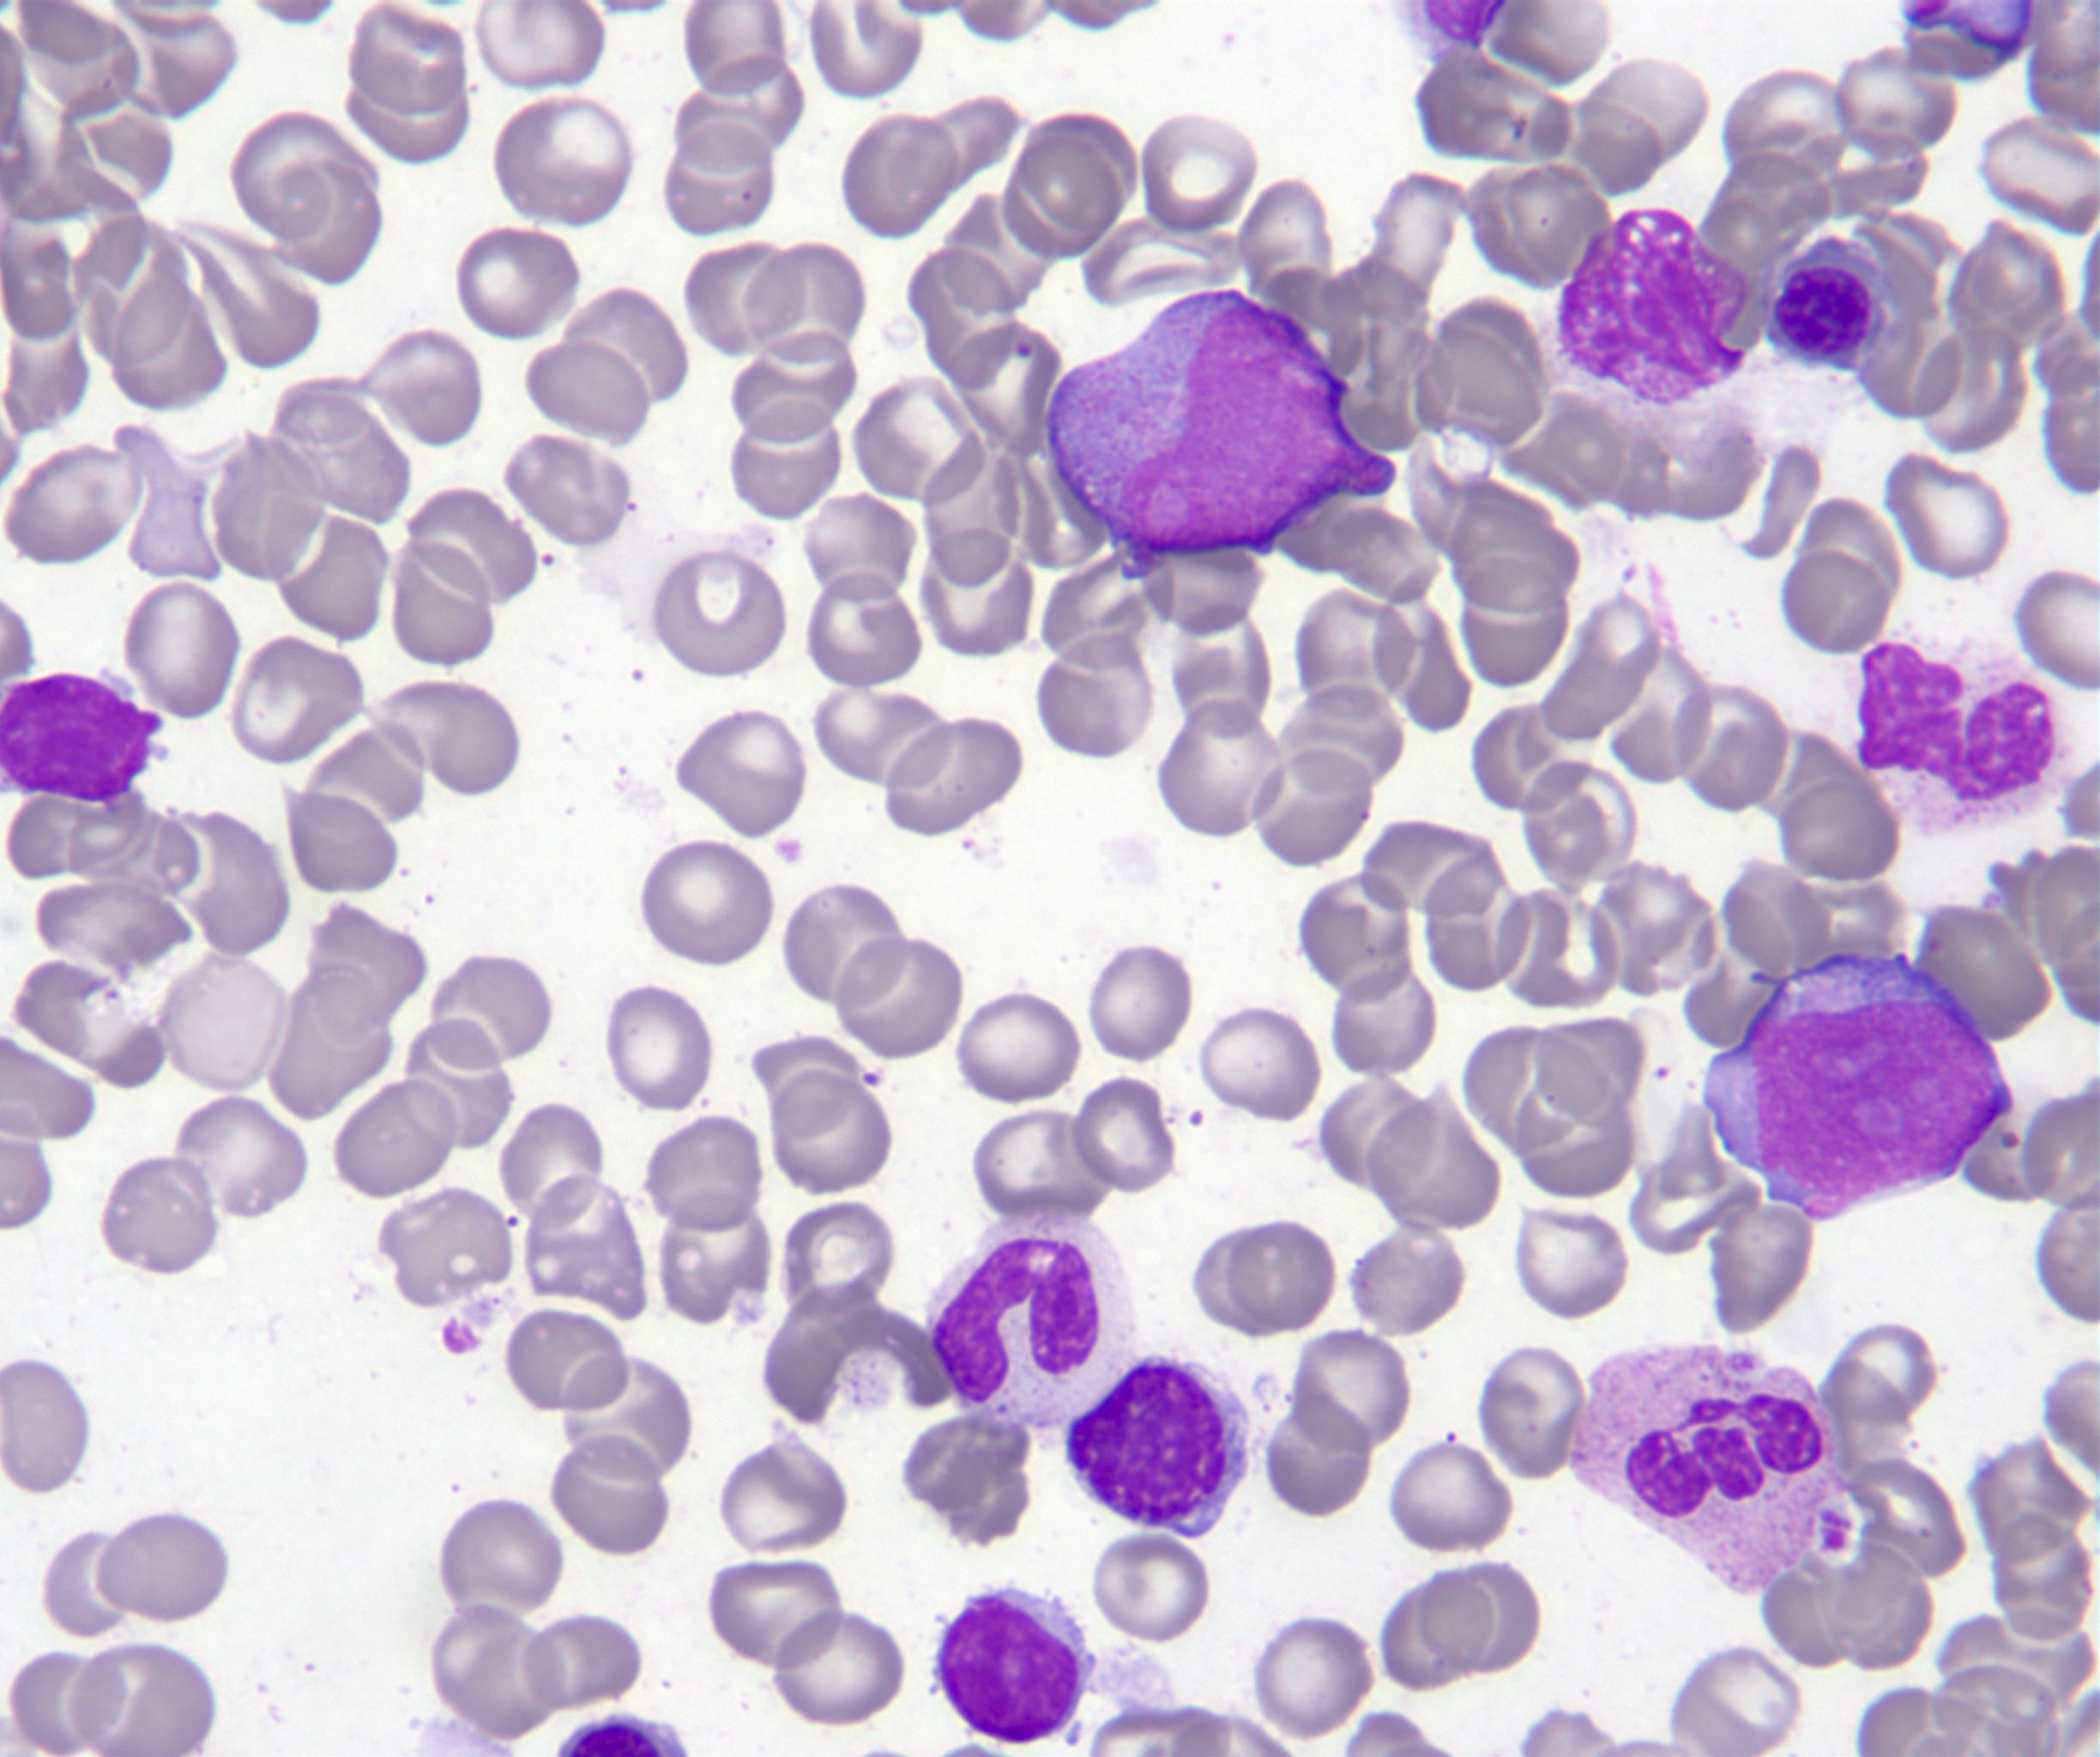1: (1704, 953, 2011, 1221)
2: (1047, 291, 1395, 581)
22: (1067, 1354, 1247, 1541)
23: (1767, 234, 1894, 368)
32: (935, 1590, 1095, 1745), (0, 672, 162, 803)
5: (926, 1207, 1134, 1429)
6: (1572, 1345, 1849, 1595)
x: (1854, 637, 2074, 834), (1554, 208, 1748, 407)
